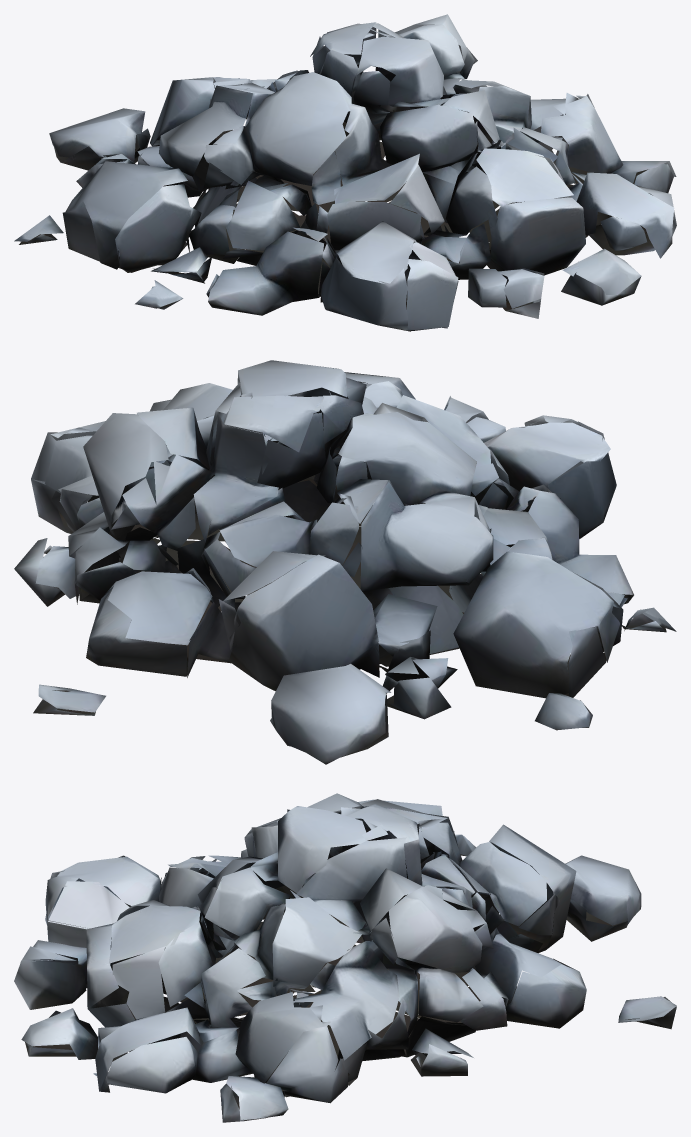
File: tripo-pedras437.glb
The picture shows the model from 3 angles, top to bottom: view 1: azimuth 30°, elevation 25°; view 2: azimuth 150°, elevation 25°; view 3: azimuth 270°, elevation 25°; orthographic projection. The views are drawn at different scales.
Parts seen in each view (by area): view 1: tripo_node_d2bf11e0-9e26-4646-b5c5-f5f6b93a9806; view 2: tripo_node_d2bf11e0-9e26-4646-b5c5-f5f6b93a9806; view 3: tripo_node_d2bf11e0-9e26-4646-b5c5-f5f6b93a9806.
Boxes of the visible parts, x1,y1,x2,y2 form: tripo_node_d2bf11e0-9e26-4646-b5c5-f5f6b93a9806: [14, 14, 676, 331]; tripo_node_d2bf11e0-9e26-4646-b5c5-f5f6b93a9806: [14, 360, 676, 764]; tripo_node_d2bf11e0-9e26-4646-b5c5-f5f6b93a9806: [14, 793, 676, 1122].
Bounding box in the file's own units: 0.9813 × 0.2985 × 0.9499.
Materials: 1 (1 with a texture image).
